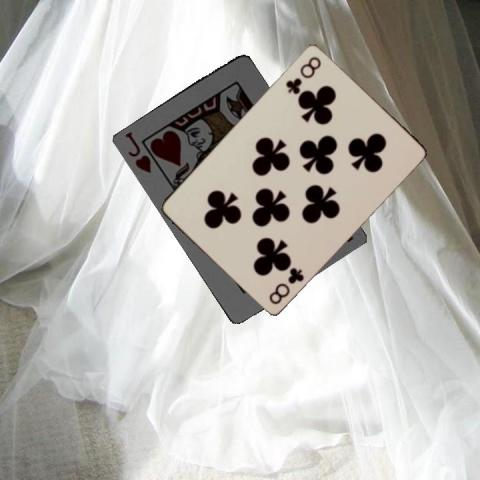8c: (283, 53, 322, 95), (266, 264, 305, 306)
Jh: (121, 128, 153, 174)
